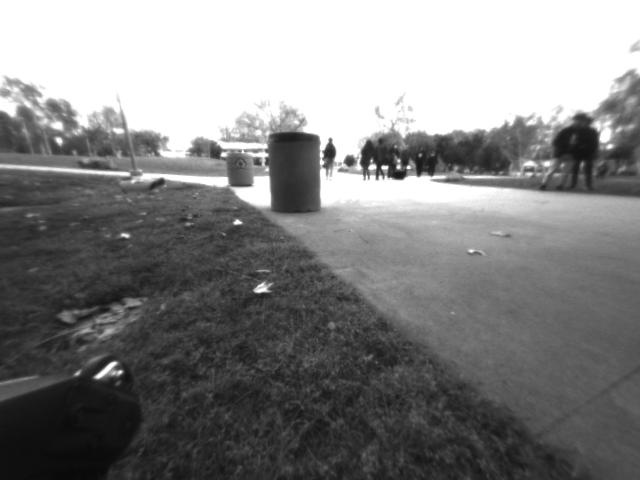trashcan: (261, 126, 322, 216), (226, 147, 254, 189)
